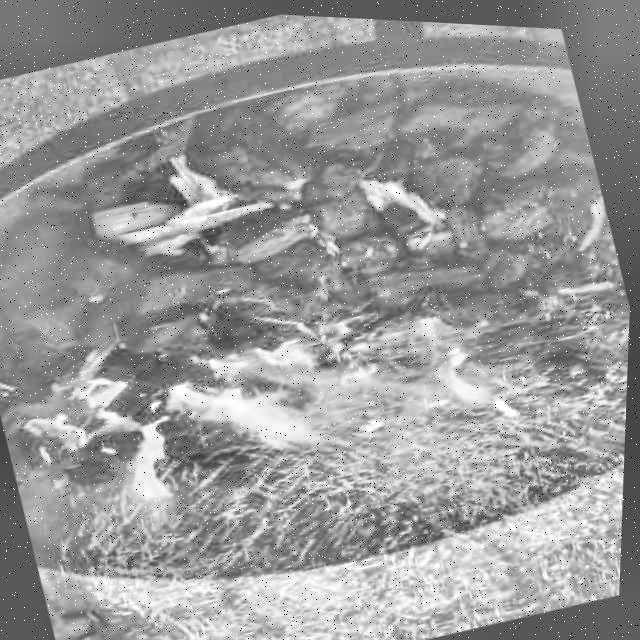Fire: (73, 249, 586, 576)
